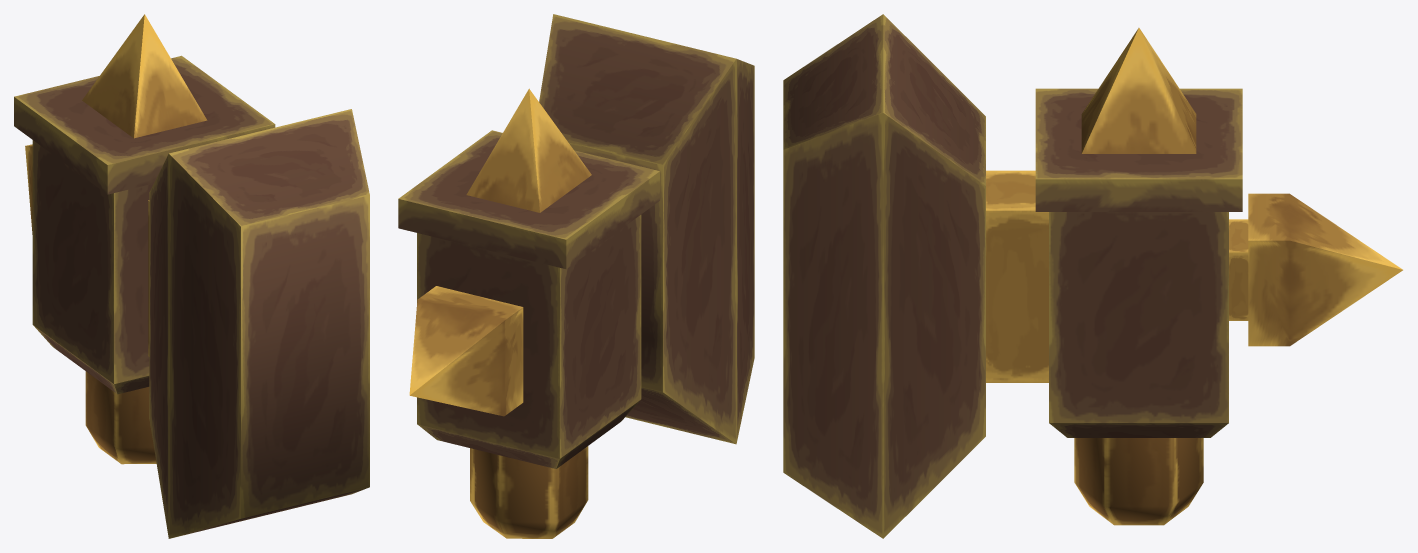
The model's file is SM_WEP_head_hammer_battle_10.fbx.
The picture shows the model from 3 angles, left to right: view 1: azimuth 30°, elevation 25°; view 2: azimuth 150°, elevation 25°; view 3: azimuth 270°, elevation 25°; orthographic projection. The views are drawn at different scales.
Visible parts, largest first — view 1: SM_WEP_head_hammer_battle_10; view 2: SM_WEP_head_hammer_battle_10; view 3: SM_WEP_head_hammer_battle_10.
Part boxes in pixels (x1,y1,x2,y2): SM_WEP_head_hammer_battle_10: (14, 14, 369, 538); SM_WEP_head_hammer_battle_10: (398, 14, 754, 538); SM_WEP_head_hammer_battle_10: (783, 14, 1402, 538).
Size of the model in its own units: 15.35 by 34.72 by 40.7.
